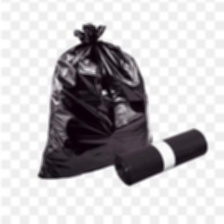plastic_bag: (34, 18, 156, 186), (109, 123, 211, 187)
